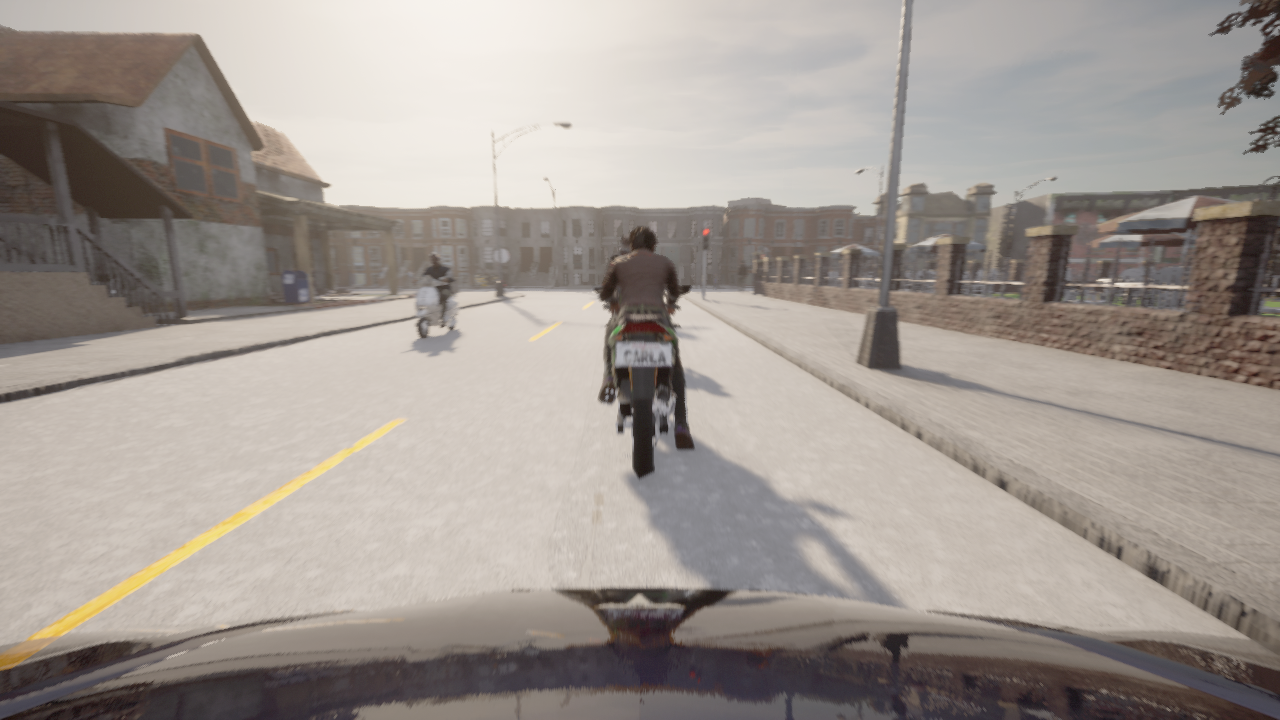cyclist: (0, 588, 1279, 719), (593, 286, 691, 478), (408, 271, 459, 339), (474, 275, 498, 288), (615, 289, 616, 291)
pedestrian: (737, 260, 747, 293), (713, 273, 717, 289)
